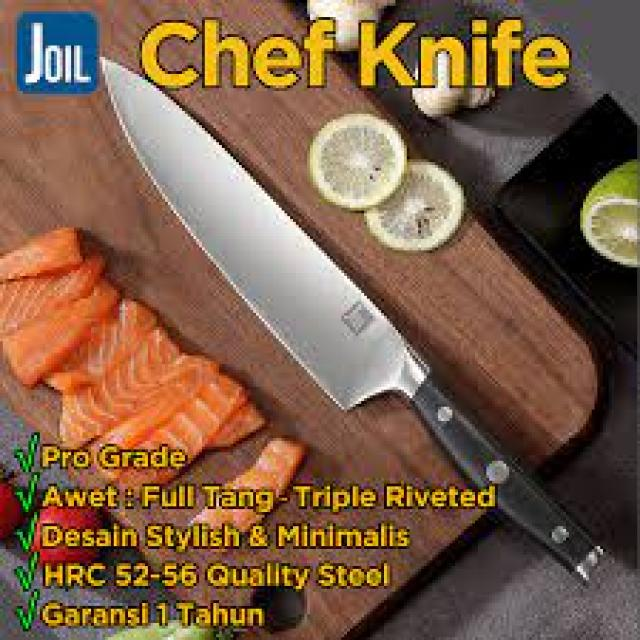Knife: (65, 25, 621, 605)
